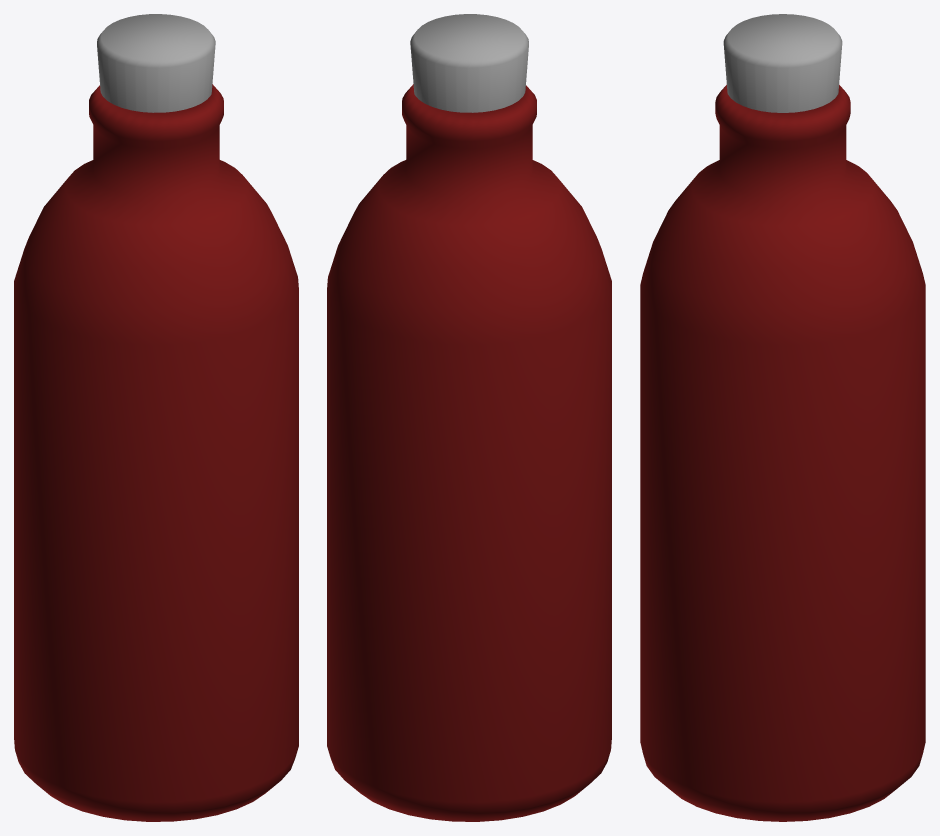
The model's file is Bottle tight.obj.
3 renders of one model, left to right at view 1: azimuth 30°, elevation 25°; view 2: azimuth 150°, elevation 25°; view 3: azimuth 270°, elevation 25°, orthographic.
Visible parts, largest first — view 1: Bottle_tight_Cylinder; view 2: Bottle_tight_Cylinder; view 3: Bottle_tight_Cylinder.
Part boxes in pixels (x1=…): Bottle_tight_Cylinder: x1=14, y1=14, x2=298, y2=821; Bottle_tight_Cylinder: x1=327, y1=14, x2=611, y2=821; Bottle_tight_Cylinder: x1=640, y1=14, x2=925, y2=821.
Bounding box in the file's own units: 0.9826 × 2.78 × 0.9826.
